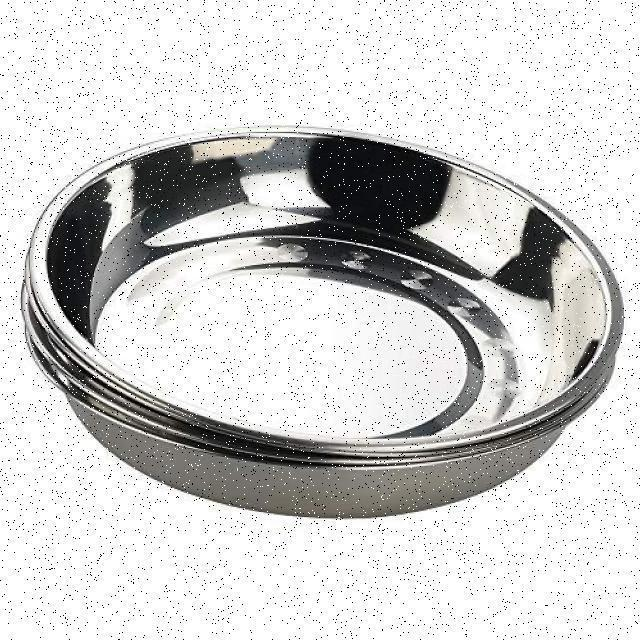plate: (8, 104, 630, 534)
